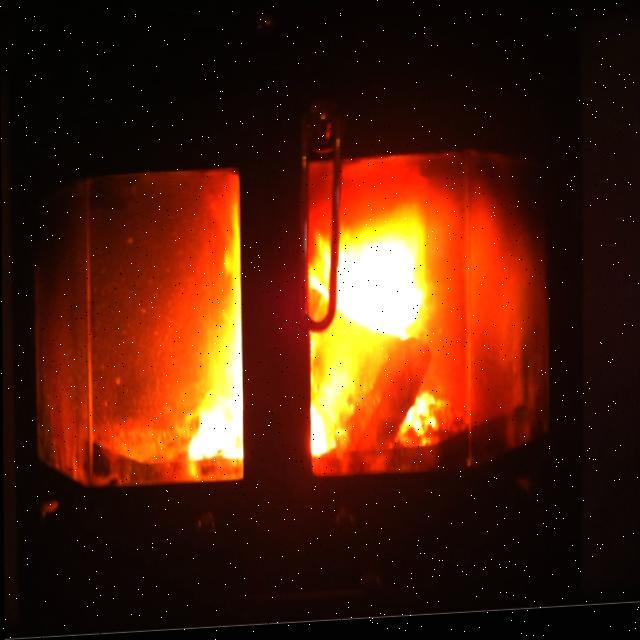Fire: (0, 0, 587, 639)
